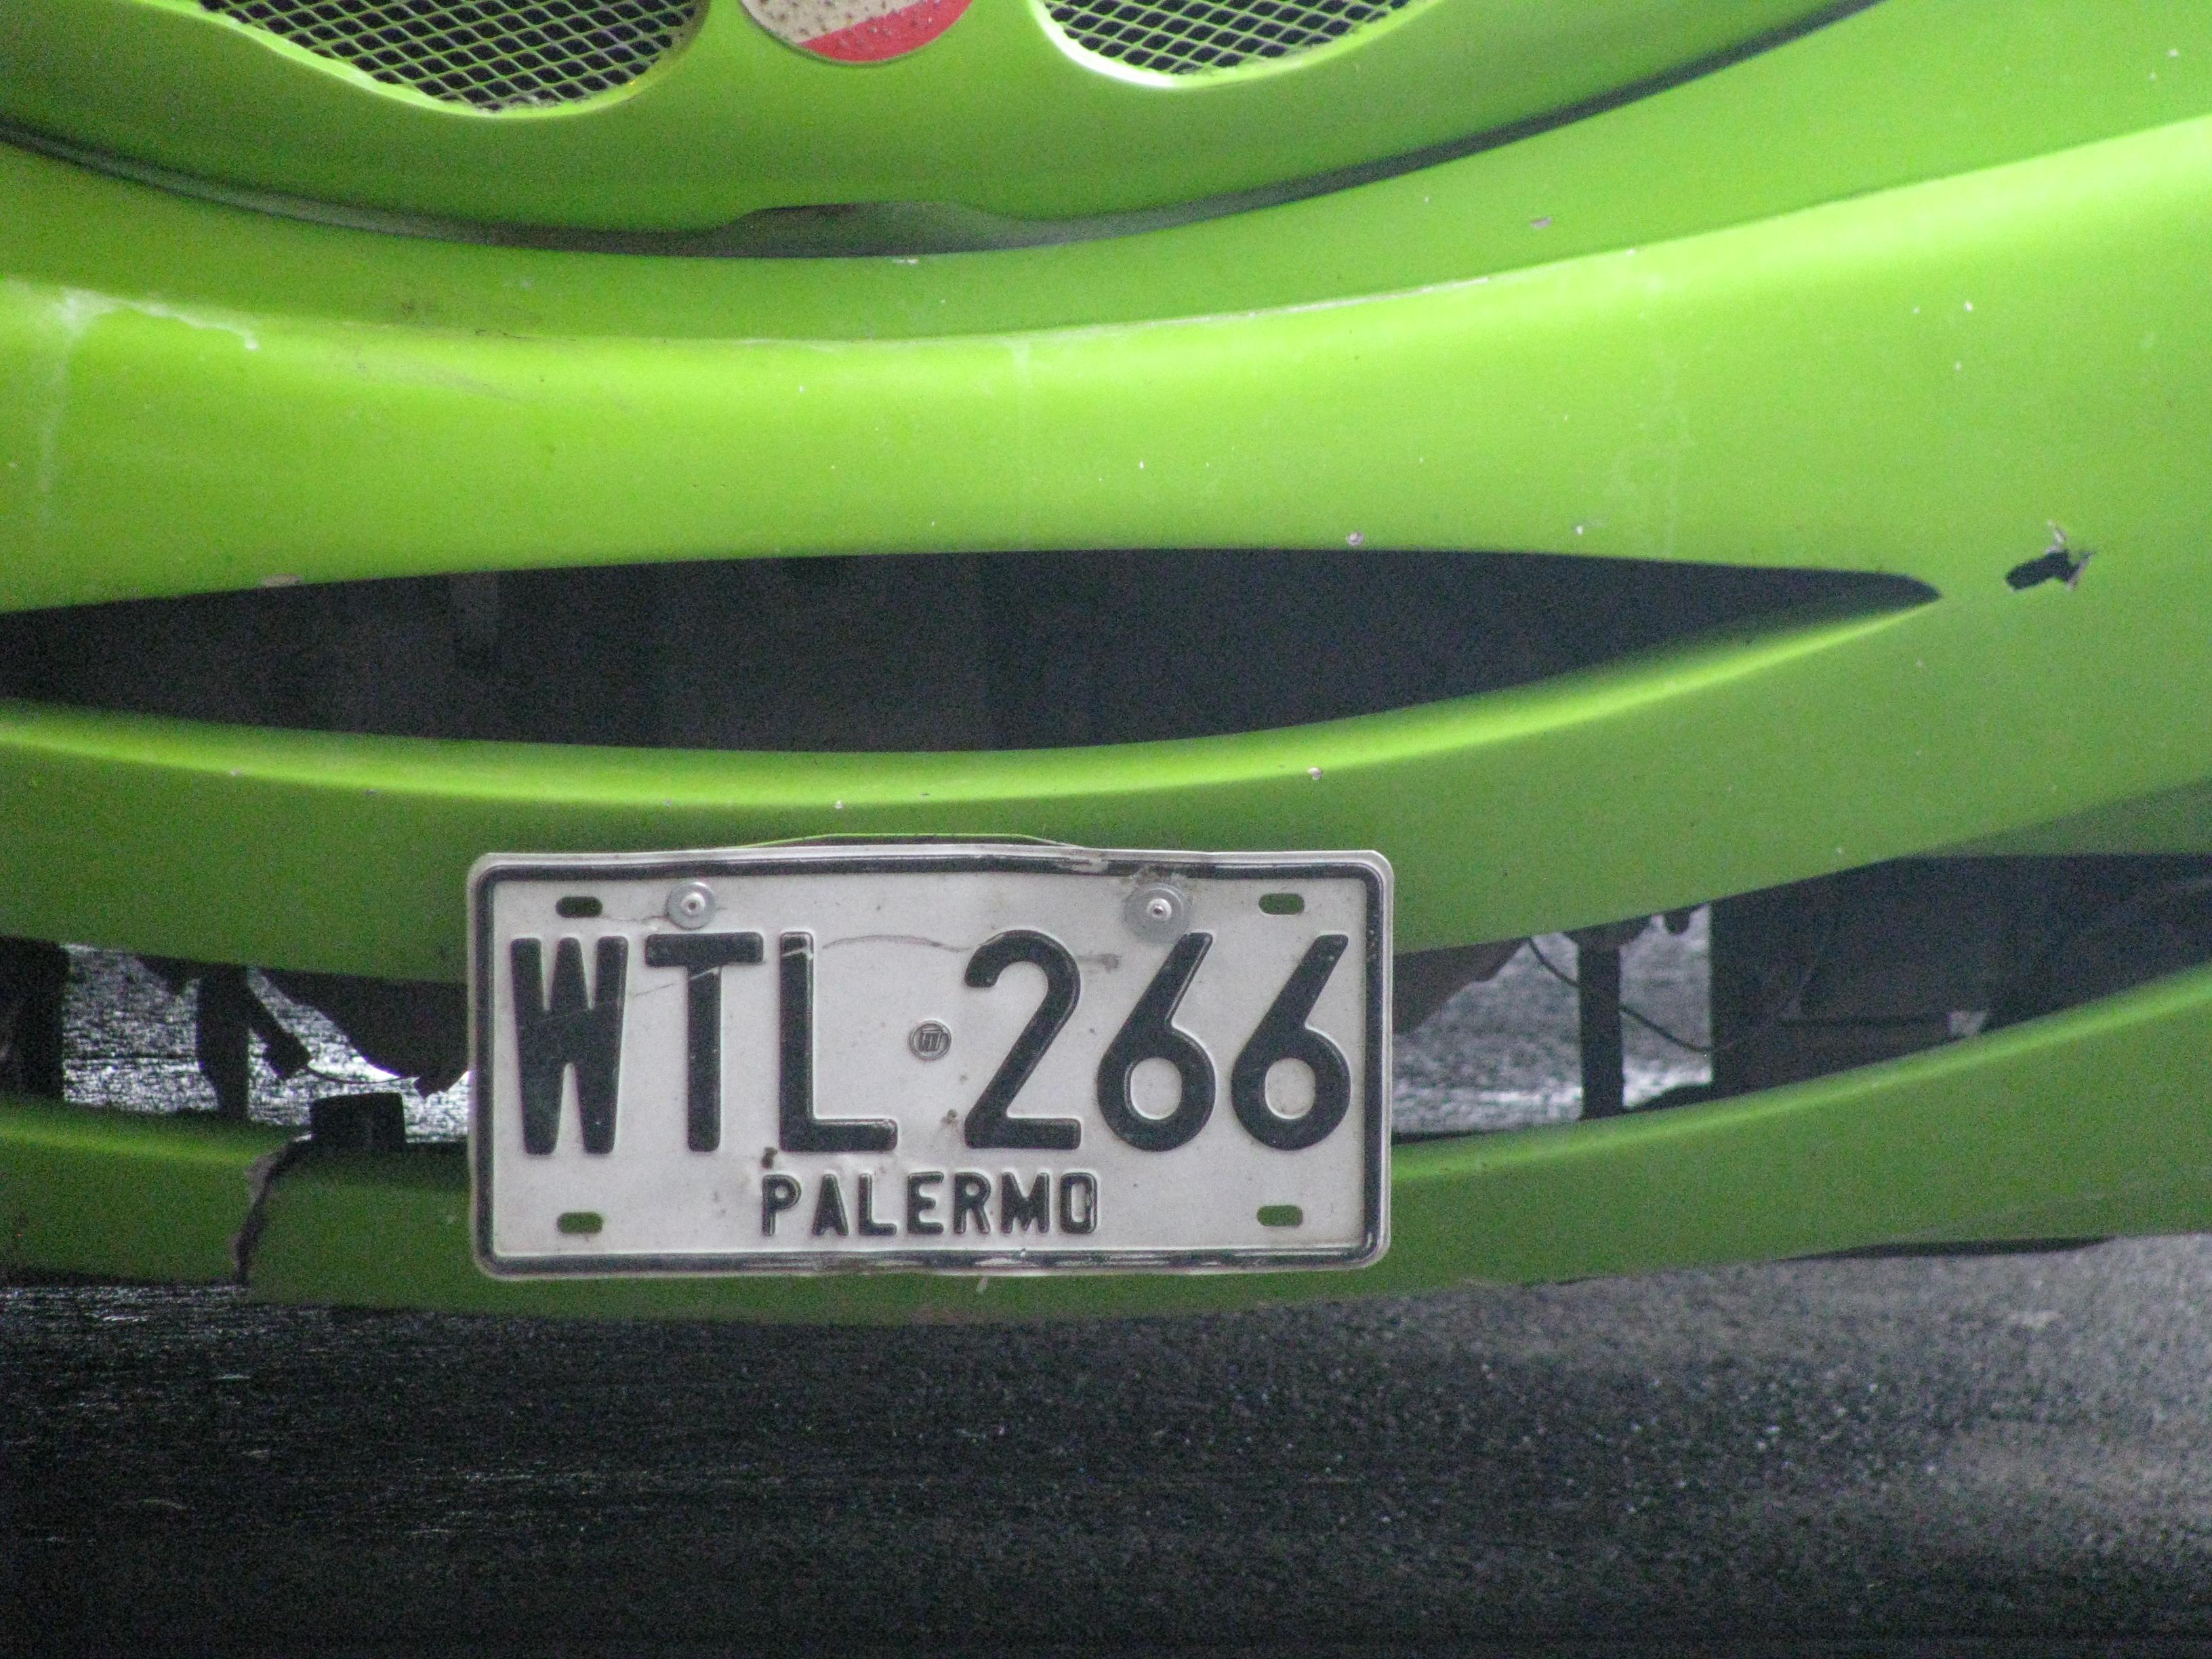placas: (455, 836, 1399, 1286)
